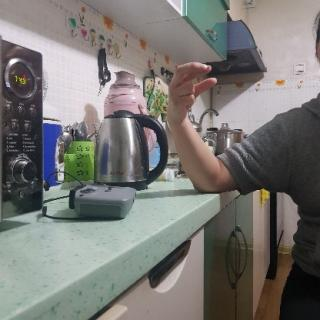DHELL: (163, 56, 221, 130)
